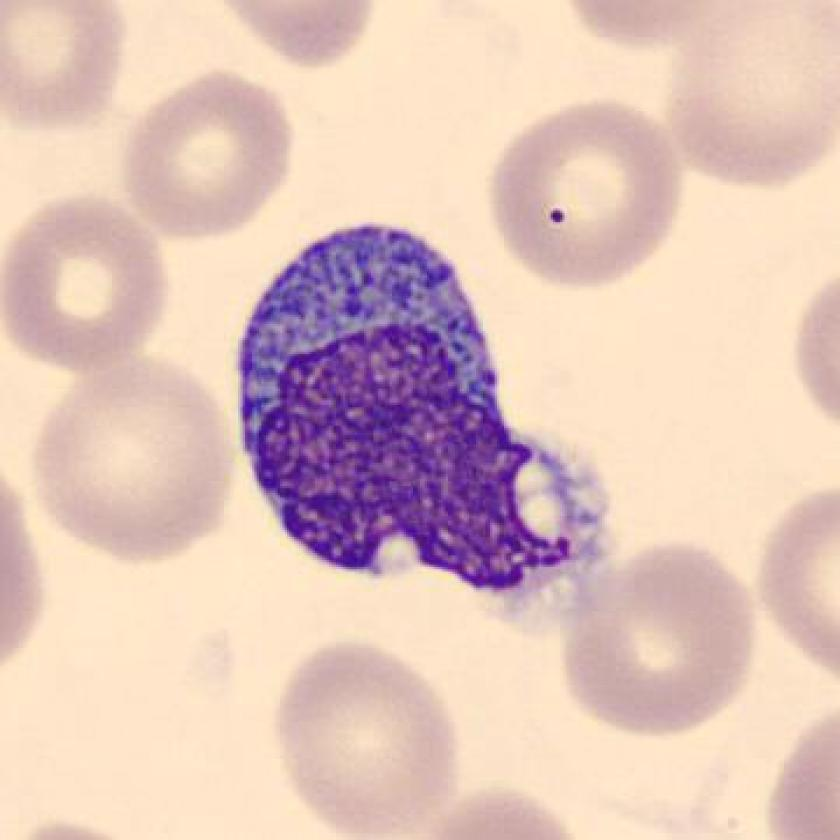monocyte: (221, 205, 627, 651)
